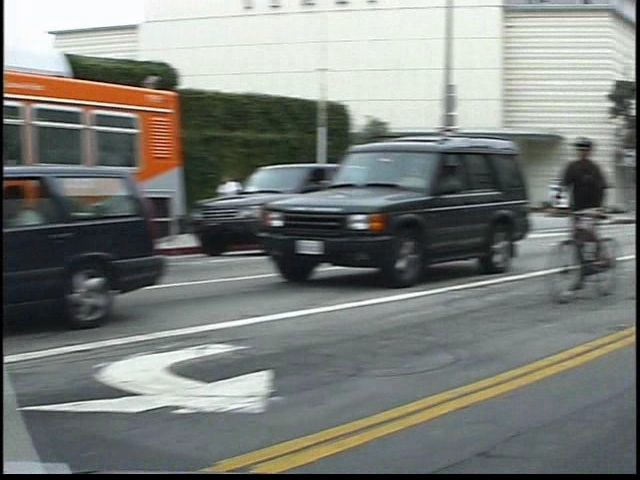person: (236, 173, 265, 243)
